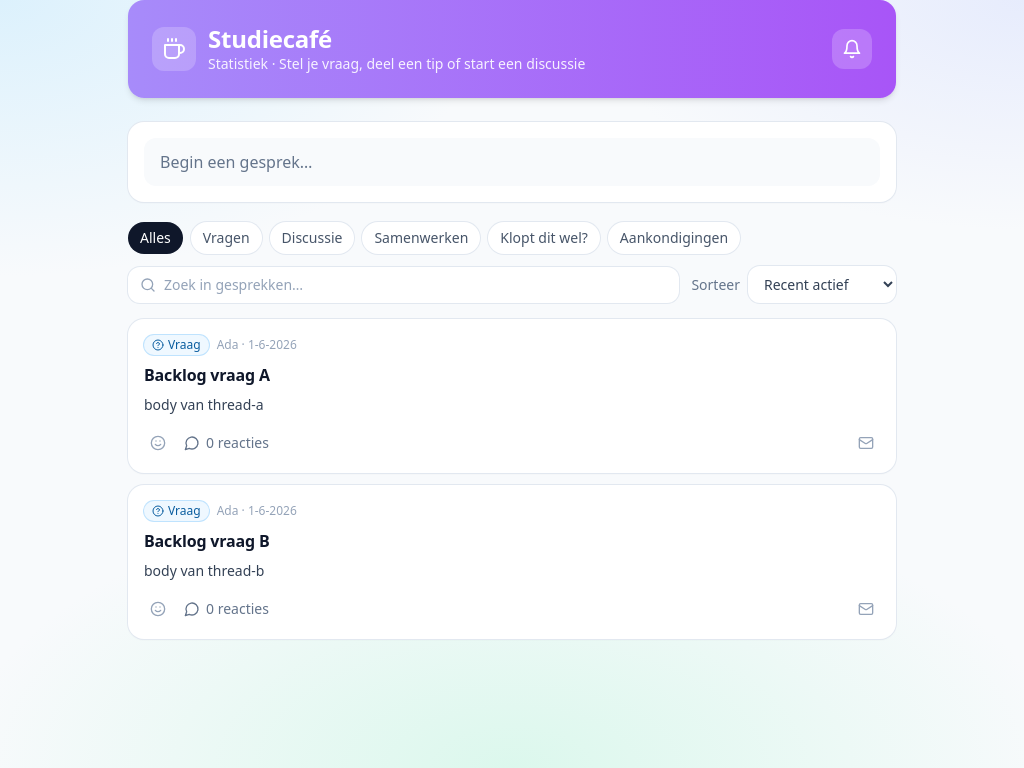
Test: StudiecafePage — bewust ongelezen markeren › wist de markering wanneer de thread wordt geopend
expect the element with test id "thread-thread-a" is shown: met, box [128,319,896,473]
Click the button with test id "button-mark-unread-thread-a". click: (866, 443)
box: [852,429,880,457]
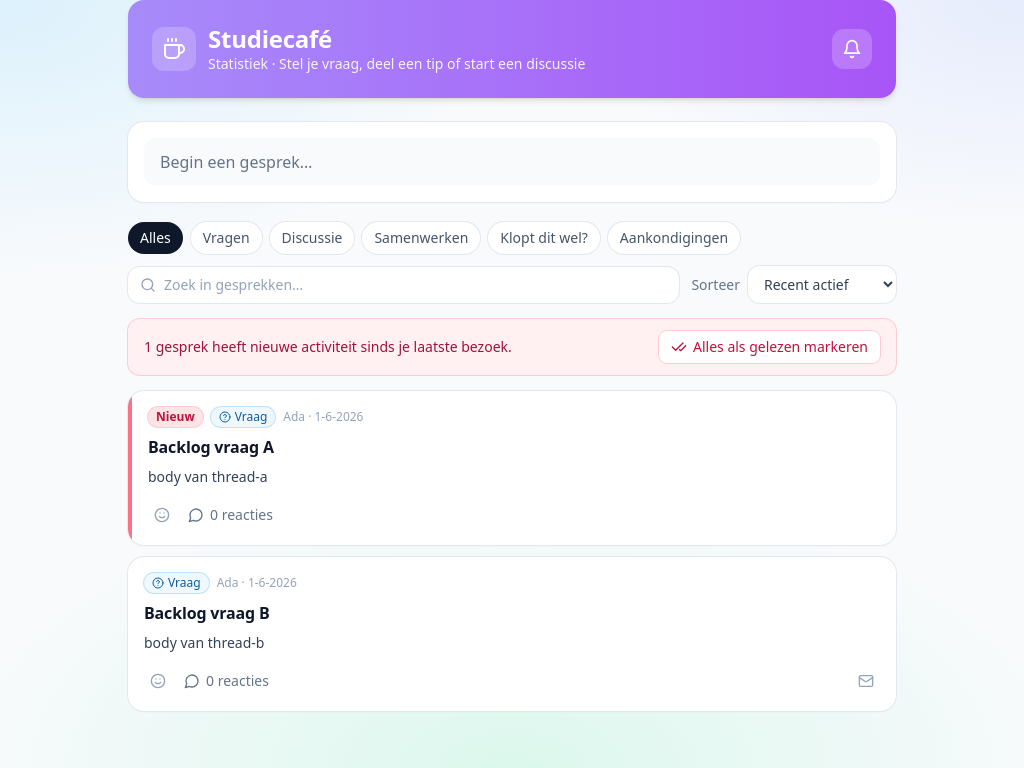
expect the text "Nieuw" is shown: met, box [148,407,203,427]
Click the button with test id "button-replies-thread-a". click: (230, 515)
box: [188,505,273,525]
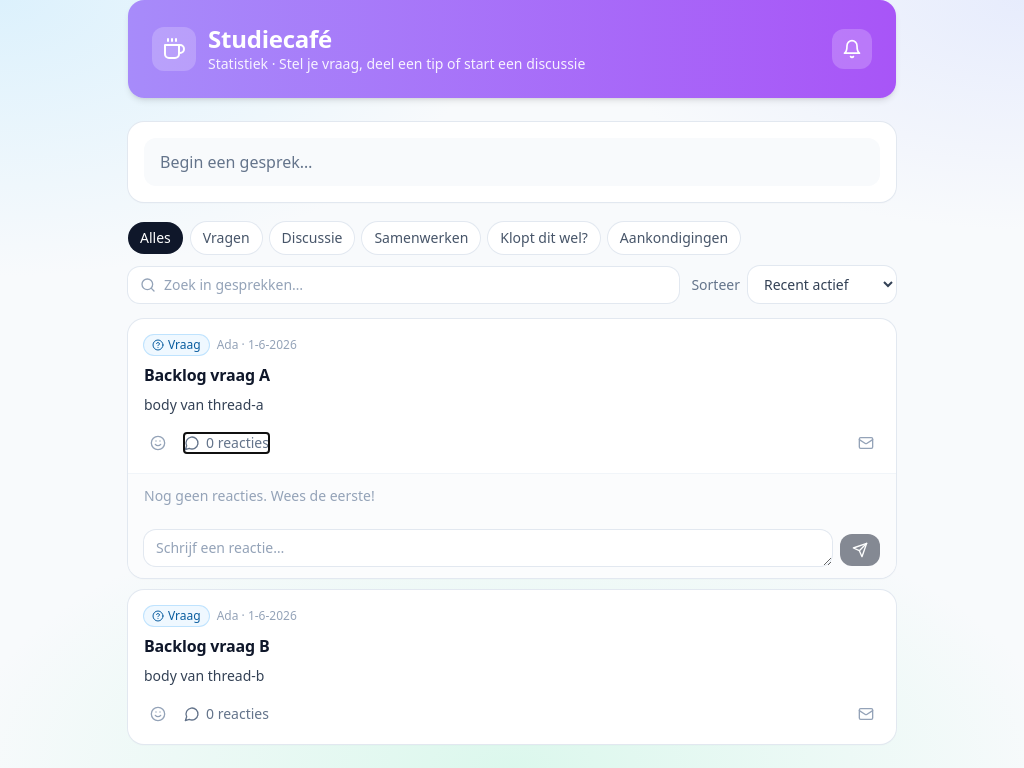
expect the text with test id "badge-unread-thread-a" is gone: met
expect the element with test id "banner-unread" is gone: met
